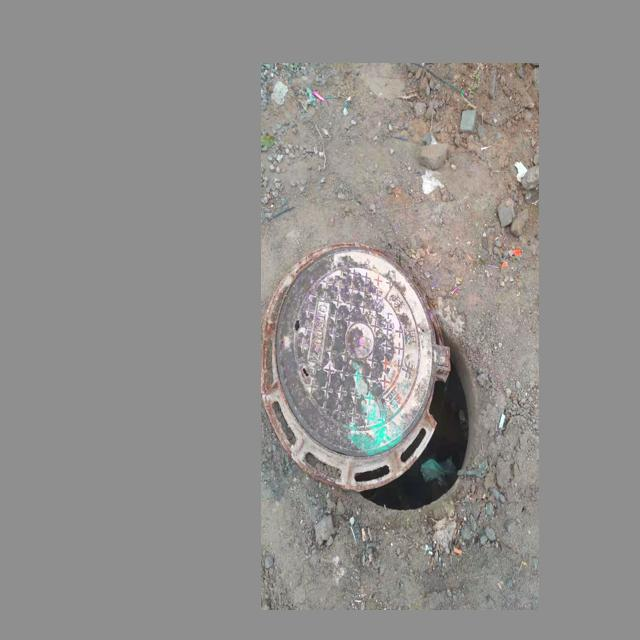uncovered: (264, 243, 475, 508)
